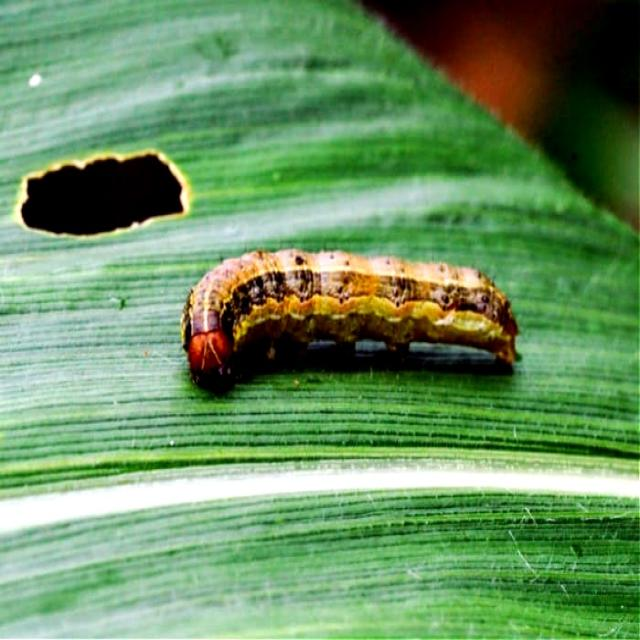armyworm: (179, 246, 520, 394)
